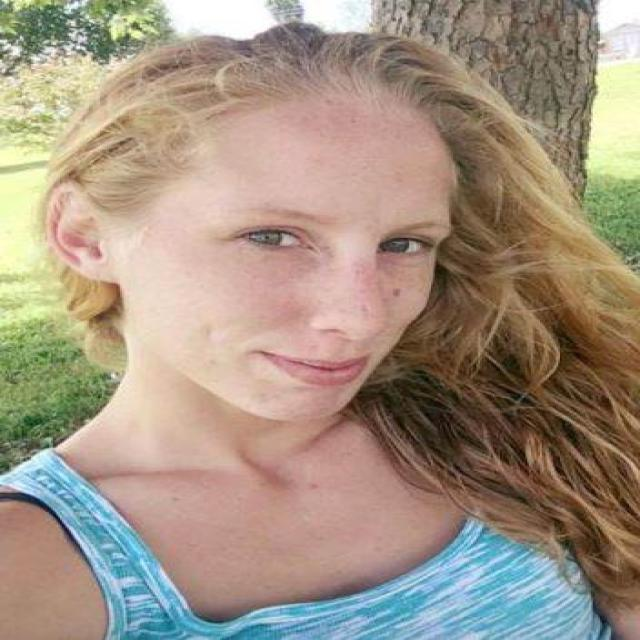mobile_phonerotation: (0, 18, 638, 639)
